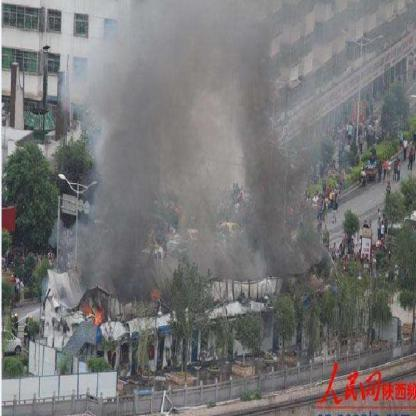smoke: (84, 57, 164, 290), (231, 68, 310, 276)
